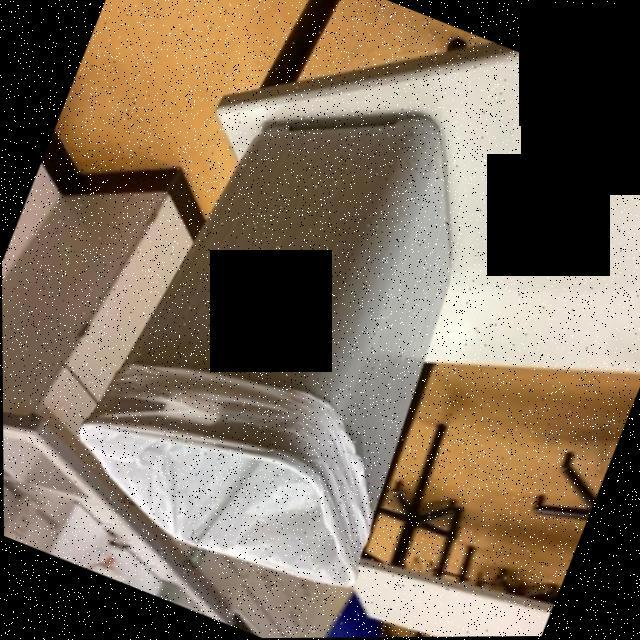bin: (23, 0, 576, 640)
